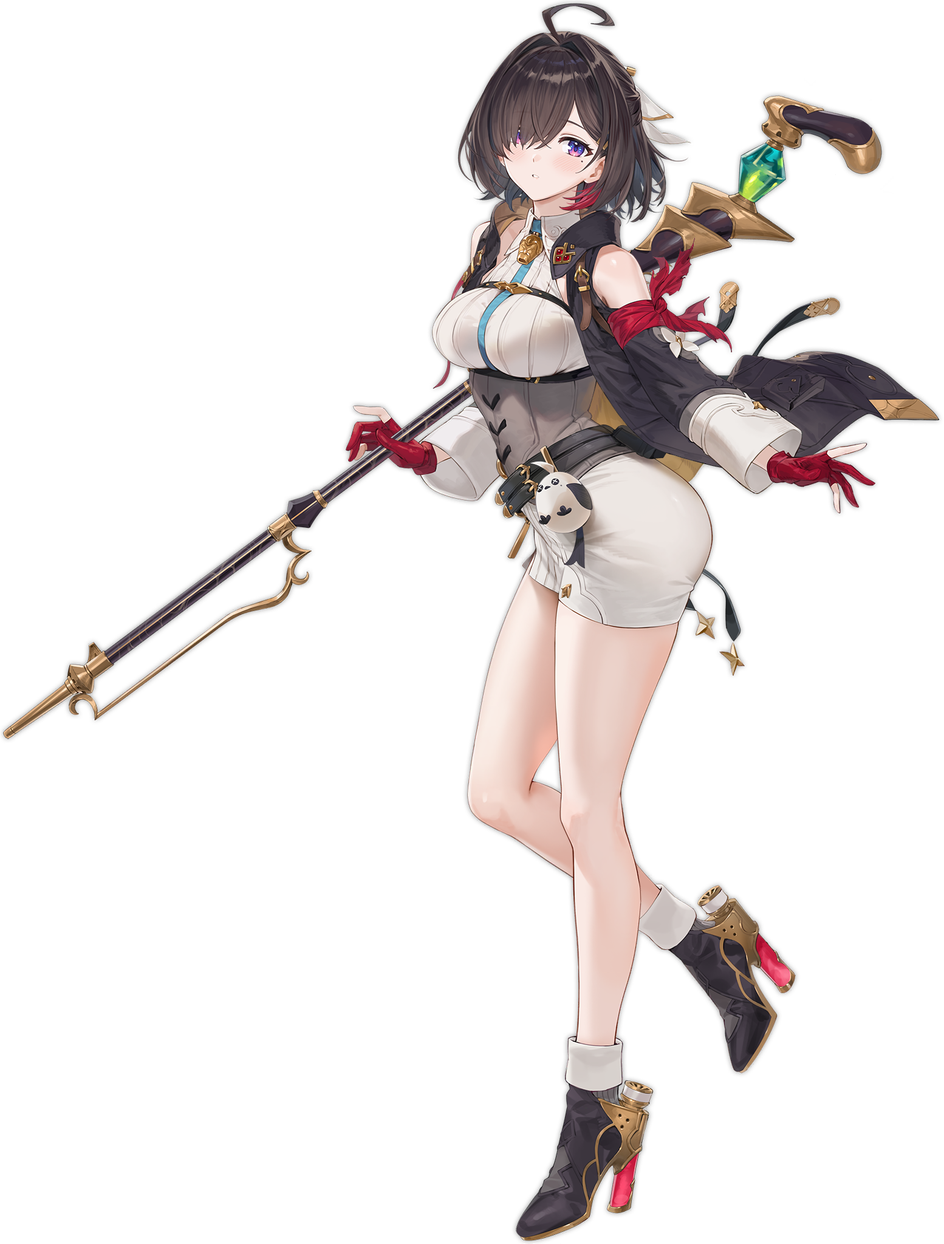person: (80, 3, 941, 1243)
